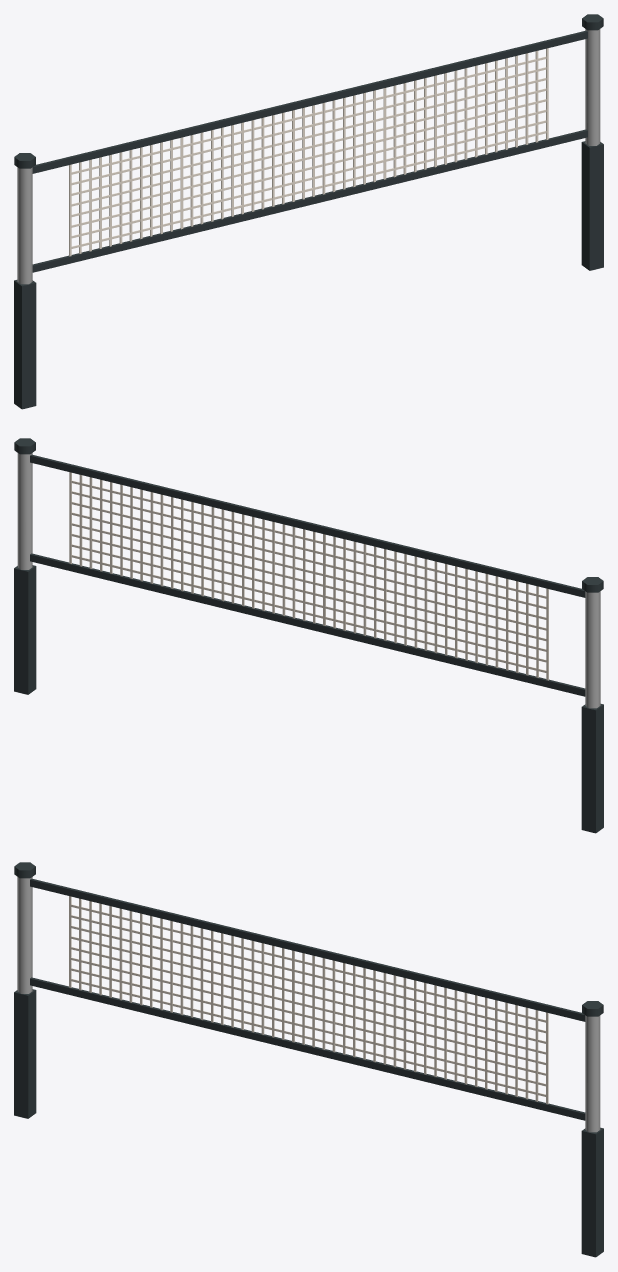
File: VolleyballNet_01.fbx
3 renders of one model, top to bottom at view 1: azimuth 30°, elevation 25°; view 2: azimuth 150°, elevation 25°; view 3: azimuth 330°, elevation 25°, orthographic.
Visible parts, largest first — view 1: VolleyballNet_01; view 2: VolleyballNet_01; view 3: VolleyballNet_01.
Boxes of the visible parts, <box> form: VolleyballNet_01: <box>14,14,603,409</box>; VolleyballNet_01: <box>14,438,603,833</box>; VolleyballNet_01: <box>14,862,603,1257</box>.
Size of the model in its own units: 4.84 by 1.96 by 0.1555.
